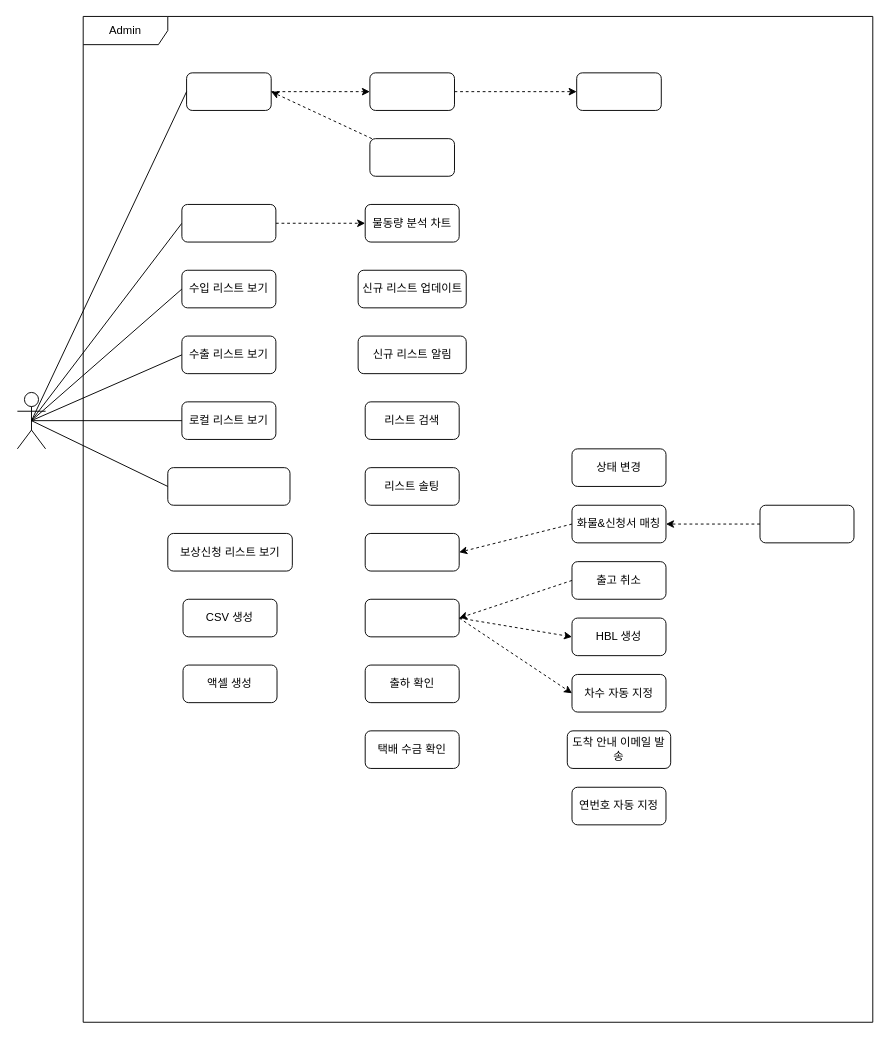
This 889x1039 diagram has some shape labels left out. The centre of each missing label's shape, as x and y in pixels:
"관리자" belongs at point (31, 420).
"권한 확인" belongs at point (618, 91).
"로그인" belongs at point (228, 91).
"로그인 실패" belongs at point (411, 157).
"메인 대시보드 보기" belongs at point (228, 223).
"바코드 스캐닝" belongs at point (806, 523).
"업로드된 파일 다운로드" belongs at point (228, 486).
"인증" belongs at point (411, 91).
"입고 확인" belongs at point (411, 552).
"출고 확인" belongs at point (411, 617).
